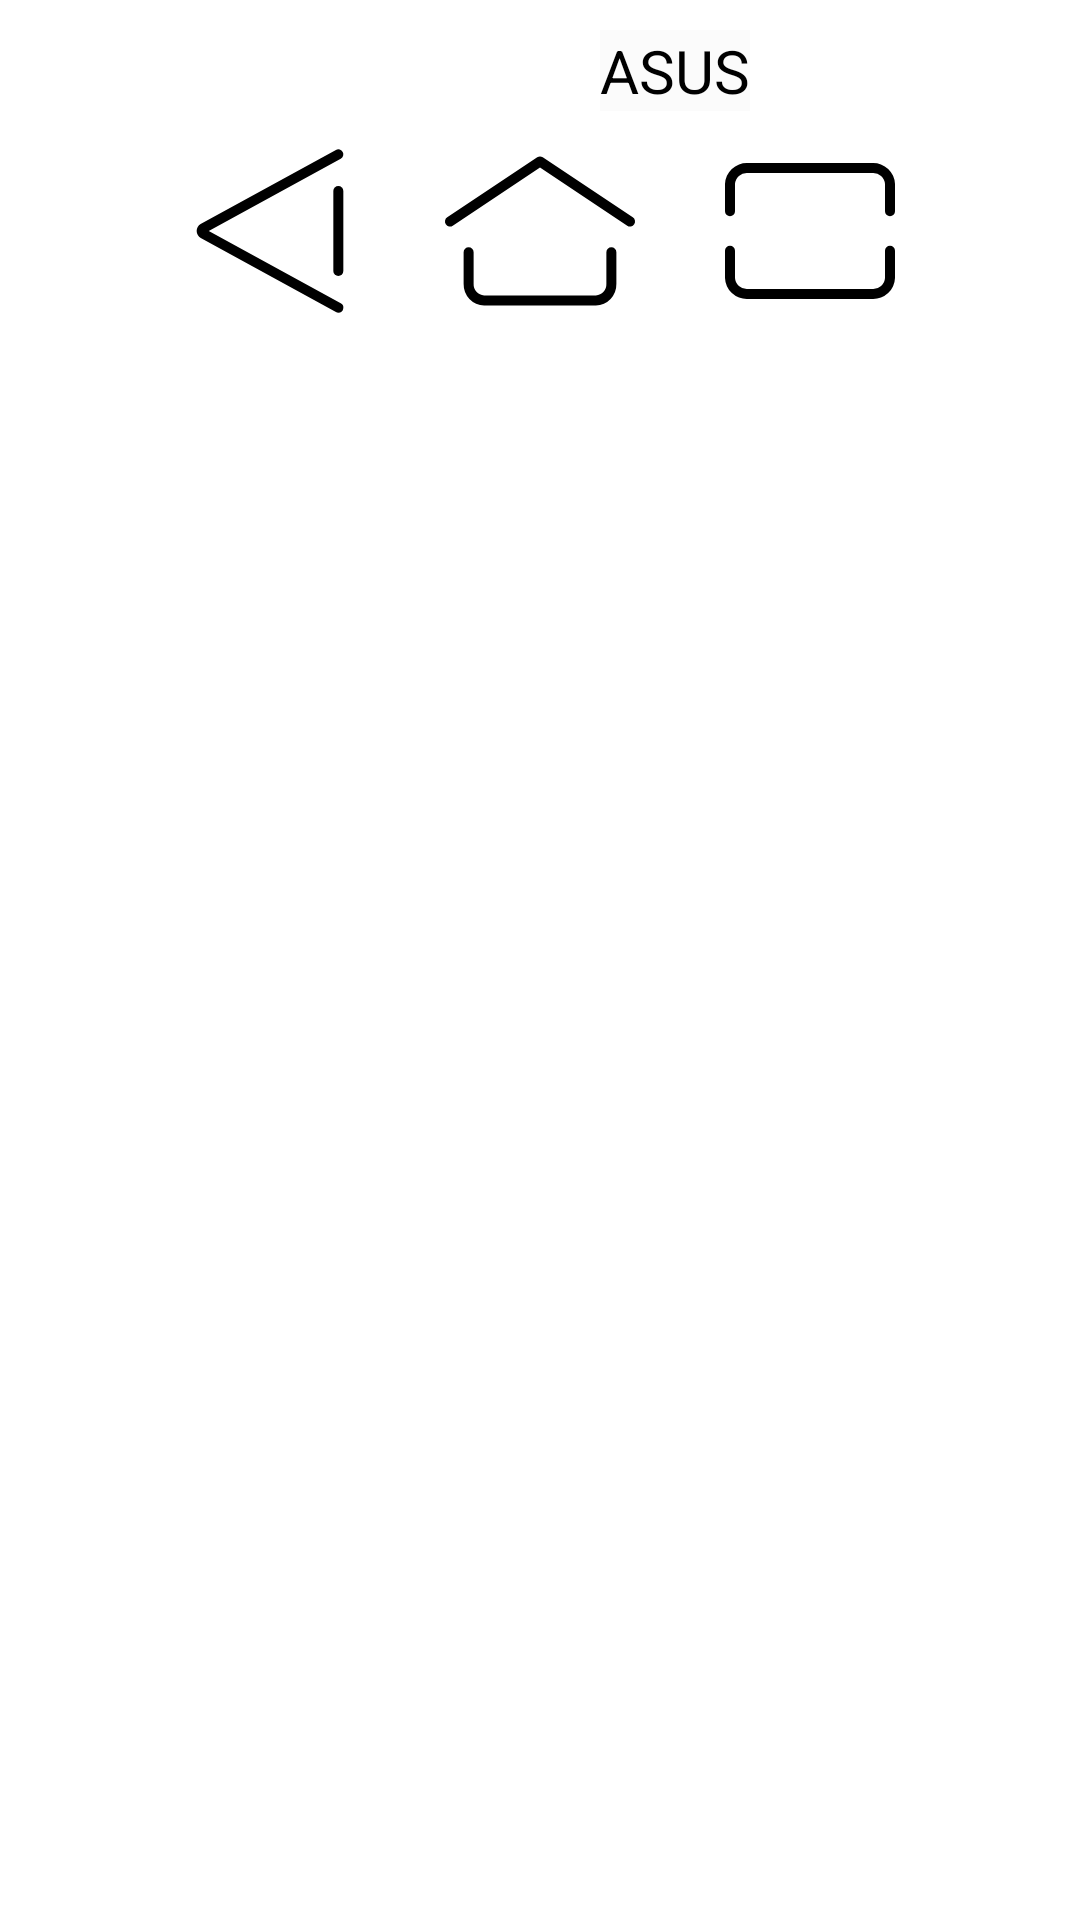

Icon click points for this 1080x1920 phone screenshot, format [x,y]:
navbar asus back: [270,231]
